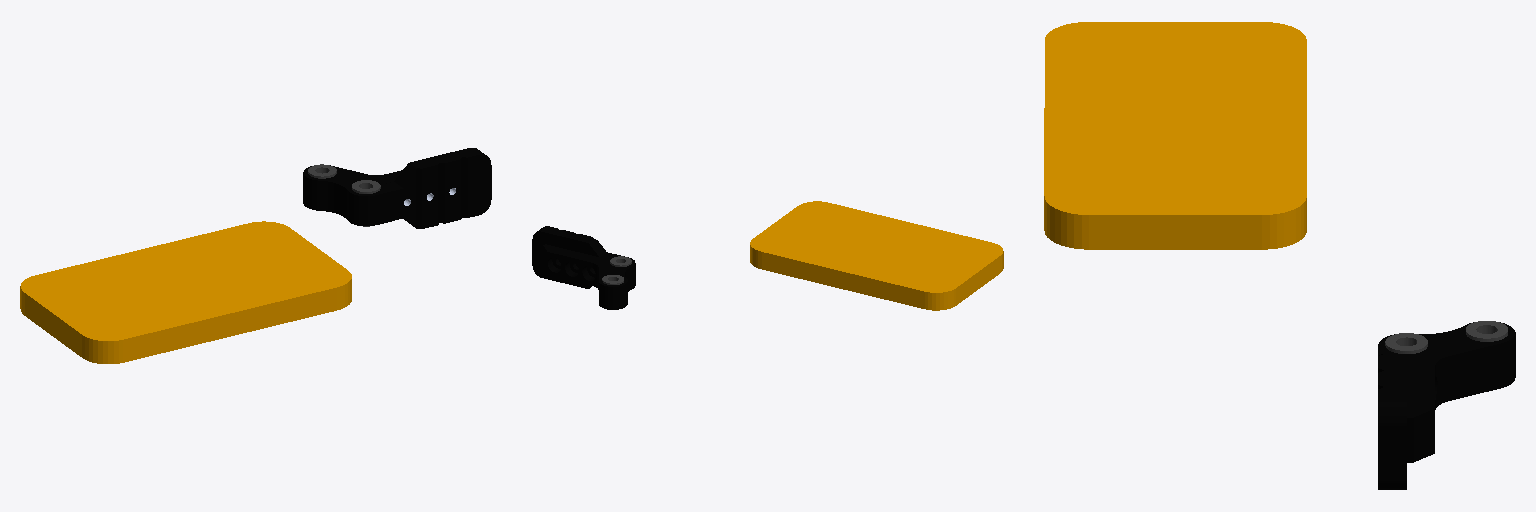
URDF robot description (robotiq_c_model):
<?xml version="1.0" ?>
<!-- =================================================================================== -->
<!-- |    This document was autogenerated by xacro from robotiq_c_model_visualization/urdf/robotiq_c_model.xacro | -->
<!-- |    EDITING THIS FILE BY HAND IS NOT RECOMMENDED                                 | -->
<!-- =================================================================================== -->
<!-- 
    Please note that the base link of the c_model gripper is
    "${prefix}robotiq_85_adapter_link"
 -->
<robot name="robotiq_c_model" xmlns:xacro="http://ros.org/wiki/xacro">
  <link name="robotiq_85_adapter_link">
    <inertial>
      <mass value="10"/>
      <origin rpy="0 0 0" xyz="0 0 0"/>
      <inertia ixx="1" ixy="0" ixz="0" iyy="1" iyz="0" izz="1"/>
    </inertial>
    <visual>
      <geometry>
        <mesh filename="package://robotiq_c_model_visualization/meshes/robotiq_85_gripper_adapter_plate.dae"/>
      </geometry>
      <origin rpy="1.5707 0 1.5707" xyz="0 0 0"/>
    </visual>
  </link>
  <joint name="robotiq_85_base_joint" type="fixed">
    <parent link="robotiq_85_adapter_link"/>
    <child link="robotiq_85_base_link"/>
    <axis xyz="1 0 0"/>
    <origin rpy="0 0 0" xyz=".0085 0 -.0041"/>
  </joint>
  <link name="robotiq_85_base_link">
    <inertial>
      <mass value="10"/>
      <origin rpy="0 0 0" xyz="0 0 0"/>
      <inertia ixx="1" ixy="0" ixz="0" iyy="1" iyz="0" izz="1"/>
    </inertial>
    <visual>
      <geometry>
        <mesh filename="package://robotiq_c_model_visualization/meshes/robotiq_85_gripper_base.dae"/>
      </geometry>
      <origin rpy="3.1415 0 1.5707" xyz="0 0 0"/>
    </visual>
  </link>
  <joint name="robotiq_85_left_knuckle_joint" type="revolute">
    <parent link="robotiq_85_base_link"/>
    <child link="robotiq_85_left_knuckle_link"/>
    <axis xyz="1 0 0"/>
    <origin rpy="-1.5707 1.5707 0" xyz=".04191 .0306 0"/>
    <limit effort="1000" lower="0" upper=".8575" velocity="2.0"/>
  </joint>
  <joint name="robotiq_85_right_knuckle_joint" type="revolute">
    <parent link="robotiq_85_base_link"/>
    <child link="robotiq_85_right_knuckle_link"/>
    <axis xyz="1 0 0"/>
    <origin rpy="1.5707 -1.5707 0" xyz=".04191 -.0306 0"/>
    <limit effort="1000" lower="0" upper="1.5707" velocity="2.0"/>
    <mimic joint="robotiq_85_left_knuckle_joint" multiplier="1"/>
  </joint>
  <link name="robotiq_85_left_knuckle_link">
    <inertial>
      <mass value="10"/>
      <origin rpy="0 0 0" xyz="0 0 0"/>
      <inertia ixx="1" ixy="0" ixz="0" iyy="1" iyz="0" izz="1"/>
    </inertial>
    <visual>
      <geometry>
        <mesh filename="package://robotiq_c_model_visualization/meshes/robotiq_85_gripper_joint_0_L.dae"/>
      </geometry>
      <origin rpy="3.14159 -1.5707 0" xyz="0 .04191 -.0306"/>
    </visual>
  </link>
  <link name="robotiq_85_right_knuckle_link">
    <inertial>
      <mass value="10"/>
      <origin rpy="0 0 0" xyz="0 0 0"/>
      <inertia ixx="1" ixy="0" ixz="0" iyy="1" iyz="0" izz="1"/>
    </inertial>
    <visual>
      <geometry>
        <mesh filename="package://robotiq_c_model_visualization/meshes/robotiq_85_gripper_joint_0_R.dae"/>
      </geometry>
      <origin rpy="3.14159 1.5707 0" xyz="0 .04191 -.0306"/>
    </visual>
  </link>
  <joint name="robotiq_85_left_finger_joint" type="fixed">
    <parent link="robotiq_85_left_knuckle_link"/>
    <child link="robotiq_85_left_finger_link"/>
    <axis xyz="1 0 0"/>
    <origin rpy="3.1415 0 0" xyz="0 .00508 .03134"/>
    <limit effort="1000" lower="0" upper="1.5707" velocity="2.0"/>
  </joint>
  <joint name="robotiq_85_right_finger_joint" type="fixed">
    <parent link="robotiq_85_right_knuckle_link"/>
    <child link="robotiq_85_right_finger_link"/>
    <axis xyz="1 0 0"/>
    <origin rpy="3.1415 0 0" xyz="0 .00508 .03134"/>
    <limit effort="1000" lower="0" upper="1.5707" velocity="2.0"/>
  </joint>
  <link name="robotiq_85_left_finger_link">
    <inertial>
      <mass value="10"/>
      <origin rpy="0 0 0" xyz="0 0 0"/>
      <inertia ixx="1" ixy="0" ixz="0" iyy="1" iyz="0" izz="1"/>
    </inertial>
    <visual>
      <geometry>
        <mesh filename="package://robotiq_c_model_visualization/meshes/robotiq_85_gripper_joint_1_L.dae"/>
      </geometry>
      <origin rpy="0 1.5707 0" xyz="0 -.03683 .06194"/>
    </visual>
  </link>
  <link name="robotiq_85_right_finger_link">
    <inertial>
      <mass value="10"/>
      <origin rpy="0 0 0" xyz="0 0 0"/>
      <inertia ixx="1" ixy="0" ixz="0" iyy="1" iyz="0" izz="1"/>
    </inertial>
    <visual>
      <geometry>
        <mesh filename="package://robotiq_c_model_visualization/meshes/robotiq_85_gripper_joint_1_R.dae"/>
      </geometry>
      <origin rpy="0 -1.5707 0" xyz="0 -.03683 .06194"/>
    </visual>
  </link>
  <joint name="robotiq_85_left_inner_knuckle_joint" type="revolute">
    <parent link="robotiq_85_base_link"/>
    <child link="robotiq_85_left_inner_knuckle_link"/>
    <axis xyz="1 0 0"/>
    <origin rpy="1.5707 1.5707 0" xyz=".04843 .0127 0"/>
    <limit effort="1000" lower="0" upper="1.5707" velocity="2.0"/>
    <mimic joint="robotiq_85_left_knuckle_joint" offset="0"/>
  </joint>
  <joint name="robotiq_85_right_inner_knuckle_joint" type="revolute">
    <parent link="robotiq_85_base_link"/>
    <child link="robotiq_85_right_inner_knuckle_link"/>
    <axis xyz="1 0 0"/>
    <origin rpy="-1.5707 -1.5707 0" xyz=".04843 -.0127 0"/>
    <limit effort="1000" lower="0" upper="1.5707" velocity="2.0"/>
    <mimic joint="robotiq_85_left_knuckle_joint" offset="0"/>
  </joint>
  <link name="robotiq_85_left_inner_knuckle_link">
    <inertial>
      <mass value="10"/>
      <origin rpy="0 0 0" xyz="0 0 0"/>
      <inertia ixx="1" ixy="0" ixz="0" iyy="1" iyz="0" izz="1"/>
    </inertial>
    <visual>
      <geometry>
        <mesh filename="package://robotiq_c_model_visualization/meshes/robotiq_85_gripper_joint_2_L.dae"/>
      </geometry>
      <origin rpy="0 1.5707 0" xyz="0 -.04843 .0127"/>
    </visual>
  </link>
  <link name="robotiq_85_right_inner_knuckle_link">
    <inertial>
      <mass value="10"/>
      <origin rpy="0 0 0" xyz="0 0 0"/>
      <inertia ixx="1" ixy="0" ixz="0" iyy="1" iyz="0" izz="1"/>
    </inertial>
    <visual>
      <geometry>
        <mesh filename="package://robotiq_c_model_visualization/meshes/robotiq_85_gripper_joint_2_R.dae"/>
      </geometry>
      <origin rpy="0 -1.5707 0" xyz="0 -.04843 .0127"/>
    </visual>
  </link>
  <joint name="robotiq_85_left_finger_tip_joint" type="revolute">
    <parent link="robotiq_85_left_inner_knuckle_link"/>
    <child link="robotiq_85_left_finger_tip_link"/>
    <axis xyz="1 0 0"/>
    <origin rpy="0 0 0" xyz="0 .04196 -.0388"/>
    <limit effort="1000" lower="0" upper="1.5707" velocity="2.0"/>
    <mimic joint="robotiq_85_left_knuckle_joint" multiplier="-1"/>
  </joint>
  <joint name="robotiq_85_right_finger_tip_joint" type="revolute">
    <parent link="robotiq_85_right_inner_knuckle_link"/>
    <child link="robotiq_85_right_finger_tip_link"/>
    <axis xyz="1 0 0"/>
    <origin rpy="0 0 0" xyz="0 .04196 -.0388"/>
    <limit effort="1000" lower="0" upper="1.5707" velocity="2.0"/>
    <mimic joint="robotiq_85_left_knuckle_joint" multiplier="-1"/>
  </joint>
  <link name="robotiq_85_left_finger_tip_link">
    <inertial>
      <mass value="10"/>
      <origin rpy="0 0 0" xyz="0 0 0"/>
      <inertia ixx="1" ixy="0" ixz="0" iyy="1" iyz="0" izz="1"/>
    </inertial>
    <visual>
      <geometry>
        <mesh filename="package://robotiq_c_model_visualization/meshes/robotiq_85_gripper_joint_3_L.dae"/>
      </geometry>
      <origin rpy="0 1.5707 0" xyz="0 -.090381 .051505"/>
    </visual>
  </link>
  <link name="robotiq_85_right_finger_tip_link">
    <inertial>
      <mass value="10"/>
      <origin rpy="0 0 0" xyz="0 0 0"/>
      <inertia ixx="1" ixy="0" ixz="0" iyy="1" iyz="0" izz="1"/>
    </inertial>
    <visual>
      <geometry>
        <mesh filename="package://robotiq_c_model_visualization/meshes/robotiq_85_gripper_joint_3_R.dae"/>
      </geometry>
      <origin rpy="0 -1.5707 0" xyz="0 -.090381 .051505"/>
    </visual>
  </link>
</robot>

--- Render facts (derived) ---
Views: 3 orthographic renders of the robot side by side, from view 1: azimuth 30°, elevation 25°; view 2: azimuth 150°, elevation 25°; view 3: azimuth 270°, elevation 25°.
Robot: robotiq_c_model — 10 links, 9 joints (6 revolute, 3 fixed); root link robotiq_85_adapter_link; default pose: every joint at zero.
Visible links, largest first — view 1: robotiq_85_adapter_link, robotiq_85_left_finger_tip_link; view 2: robotiq_85_adapter_link, robotiq_85_left_finger_tip_link; view 3: robotiq_85_adapter_link, robotiq_85_left_finger_tip_link.
Boxes of the visible links, box(x1,y1,x2,y2) form: robotiq_85_adapter_link: box(20, 221, 351, 363); robotiq_85_left_finger_tip_link: box(303, 148, 491, 228); robotiq_85_adapter_link: box(750, 201, 1003, 310); robotiq_85_left_finger_tip_link: box(532, 226, 635, 309); robotiq_85_adapter_link: box(1044, 22, 1306, 249); robotiq_85_left_finger_tip_link: box(1378, 321, 1515, 489).
Bounding box of the posed robot: 0.1943 × 0.105 × 0.0263 m (x, y, z).
2 mesh visuals loaded from 10 distinct referenced files (2 Collada DAE); not drawn: 8 (reference not matched to a file when rendering).